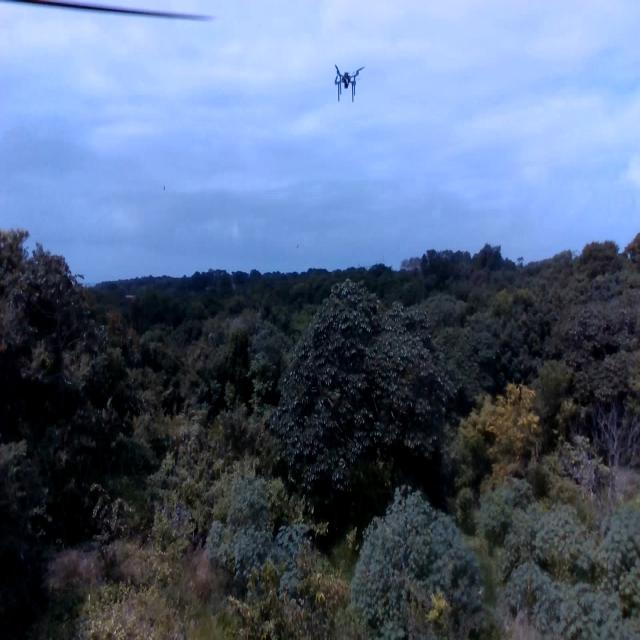-uav-: (325, 56, 369, 114)
